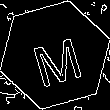M_N: (26, 24, 84, 86)
